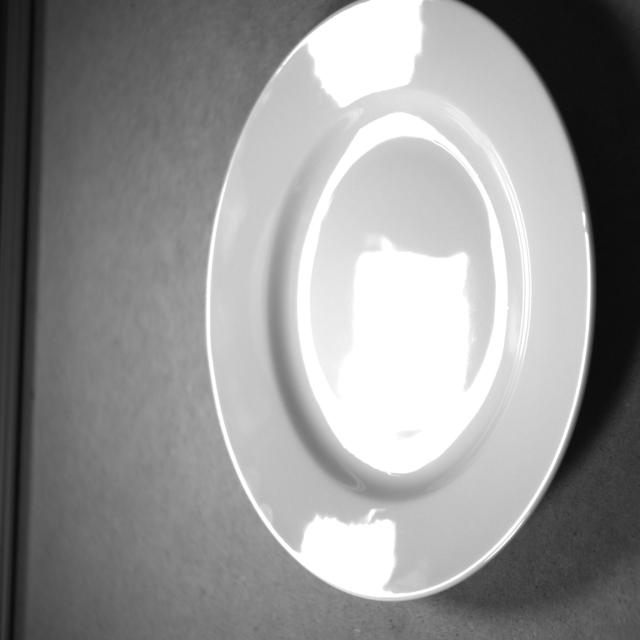plate: (191, 2, 602, 618)
